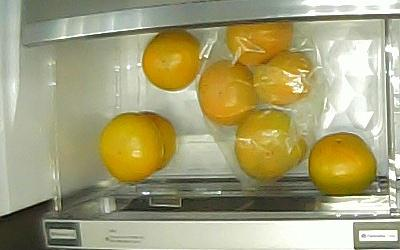persimmon: (99, 112, 163, 184), (308, 132, 377, 196), (141, 29, 202, 91), (138, 110, 178, 174)
persimmon_vinyl: (235, 108, 305, 180), (197, 58, 256, 126), (223, 21, 294, 67), (254, 50, 313, 105)
